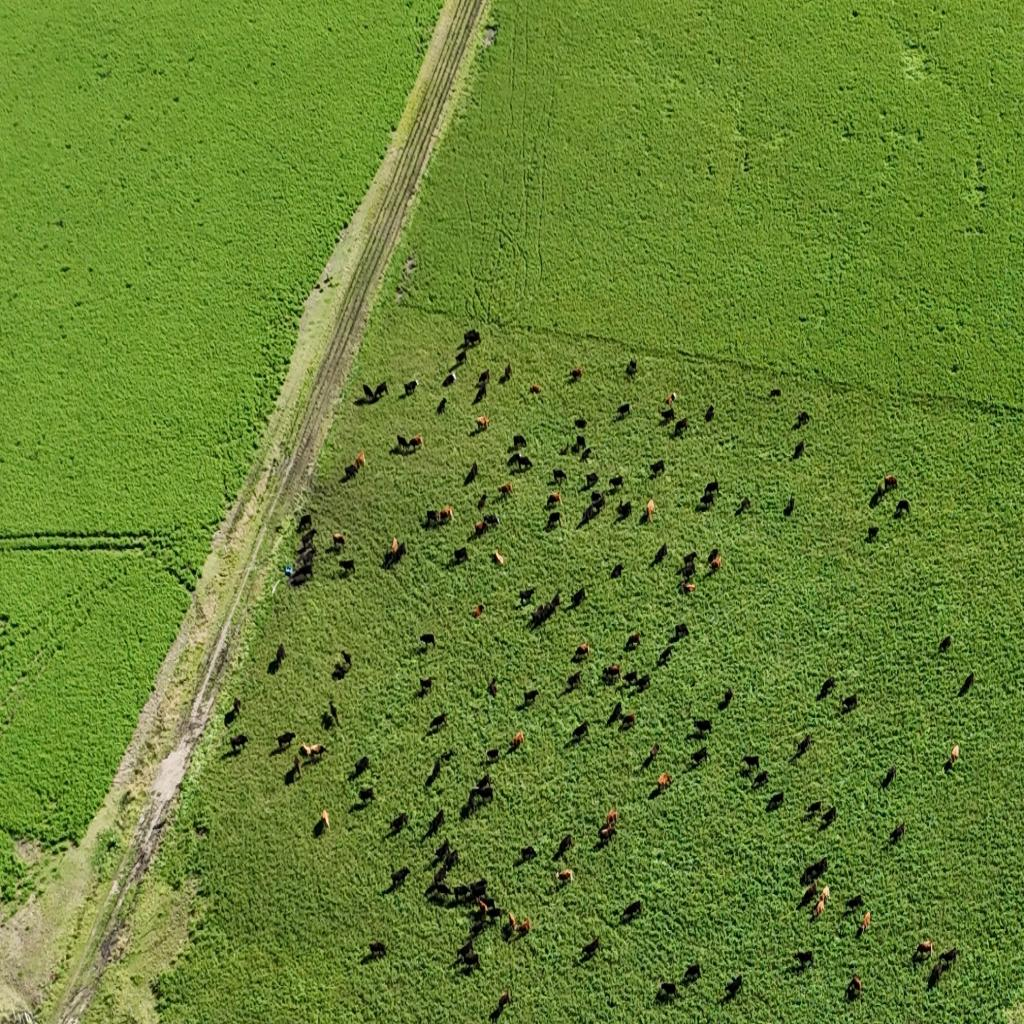cow: (531, 594, 559, 629), (801, 856, 828, 886), (435, 846, 457, 879), (455, 936, 479, 966), (425, 809, 445, 838), (491, 992, 510, 1022), (935, 957, 954, 986), (579, 935, 601, 960), (292, 555, 313, 581), (552, 833, 572, 860), (620, 899, 642, 923), (388, 866, 410, 890), (451, 881, 473, 905), (813, 887, 829, 920), (431, 870, 451, 896), (927, 960, 944, 990), (274, 730, 297, 752), (223, 698, 241, 726), (388, 812, 408, 837), (792, 734, 812, 759), (724, 974, 743, 1000), (470, 909, 488, 936), (230, 732, 250, 756), (425, 758, 441, 788), (296, 536, 316, 560), (798, 885, 818, 909), (300, 742, 324, 762), (461, 792, 479, 818), (658, 979, 680, 1000), (467, 878, 487, 901), (816, 678, 836, 701), (846, 975, 863, 1002), (819, 805, 837, 830), (640, 745, 657, 771), (764, 791, 784, 813), (794, 949, 814, 971), (683, 961, 702, 984), (476, 784, 494, 808), (428, 712, 448, 733), (690, 747, 710, 768), (366, 940, 387, 960), (741, 753, 761, 774), (938, 947, 958, 968), (511, 452, 532, 472), (946, 743, 961, 771), (957, 672, 973, 698), (682, 550, 699, 574), (606, 700, 623, 724), (718, 686, 734, 711), (869, 485, 885, 510), (571, 721, 589, 743), (564, 670, 582, 692), (657, 644, 675, 666), (914, 939, 932, 961), (286, 758, 300, 786), (353, 755, 370, 778), (693, 717, 713, 736), (804, 800, 823, 820), (602, 664, 622, 683), (570, 586, 587, 608), (599, 822, 616, 844), (481, 513, 500, 532), (881, 766, 896, 790), (463, 328, 481, 348), (632, 673, 650, 693), (483, 902, 501, 922), (296, 513, 312, 535), (890, 821, 906, 843), (389, 537, 403, 562), (358, 786, 376, 805), (752, 771, 770, 790), (841, 694, 858, 714), (703, 480, 720, 500), (844, 894, 864, 911), (464, 461, 478, 485), (590, 492, 605, 514), (394, 433, 412, 451), (555, 869, 574, 886), (674, 622, 690, 642), (418, 676, 434, 696), (476, 774, 492, 794), (546, 512, 562, 532), (894, 500, 910, 520), (616, 499, 632, 519), (273, 642, 285, 668), (329, 701, 341, 727), (707, 547, 721, 569), (654, 543, 668, 565), (322, 709, 336, 731), (519, 586, 536, 604), (574, 642, 591, 660), (452, 546, 468, 565), (523, 688, 539, 707), (649, 459, 665, 478), (794, 411, 810, 430), (625, 631, 641, 650), (475, 369, 490, 389), (695, 495, 712, 512), (338, 558, 356, 574), (620, 712, 636, 730), (546, 492, 562, 510), (585, 472, 600, 491), (657, 772, 672, 791), (344, 462, 359, 481), (374, 381, 388, 401), (791, 440, 805, 460), (736, 496, 750, 516), (573, 434, 587, 454), (454, 347, 468, 367), (473, 386, 487, 406), (860, 910, 871, 935), (548, 590, 561, 611), (520, 846, 537, 862), (193, 822, 210, 838), (624, 669, 639, 687), (516, 916, 531, 934), (938, 636, 952, 655), (784, 495, 796, 517), (606, 807, 618, 829), (476, 896, 489, 916), (419, 633, 435, 649), (609, 474, 625, 490), (437, 506, 453, 522), (660, 407, 675, 424), (674, 417, 688, 435), (362, 382, 376, 400), (664, 390, 678, 408), (512, 434, 527, 450), (552, 468, 567, 484), (512, 730, 524, 750), (499, 364, 511, 384), (646, 498, 656, 522), (320, 808, 330, 832), (354, 391, 370, 406), (404, 379, 418, 396), (340, 651, 352, 670), (617, 402, 631, 418), (332, 531, 346, 547), (884, 474, 898, 490), (498, 482, 514, 496), (476, 416, 490, 431), (410, 434, 424, 449), (681, 581, 696, 595), (610, 563, 623, 579), (580, 446, 592, 463), (355, 450, 365, 470), (626, 358, 637, 376), (486, 747, 500, 761), (440, 750, 454, 764), (442, 372, 455, 387), (867, 526, 879, 542), (493, 550, 505, 566), (488, 678, 498, 697), (574, 417, 588, 430), (704, 404, 714, 422), (478, 493, 488, 511), (436, 398, 446, 415), (474, 520, 485, 535), (570, 366, 582, 379), (473, 604, 483, 618), (769, 388, 781, 399), (530, 384, 541, 395)
